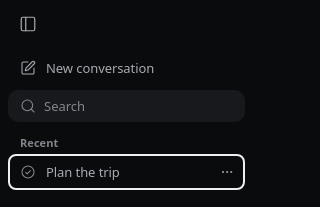
Test: renames a conversation with F2, showing the new name at once, and Escape leaves it
Press F2 in the button "Plan the trip", box x1=8 y1=154 x2=245 y2=190
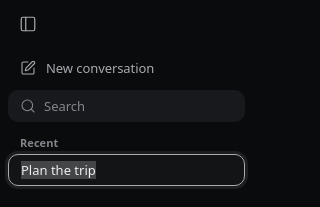
Press Escape in the field named "Conversation name", box x1=21 y1=155 x2=232 y2=185
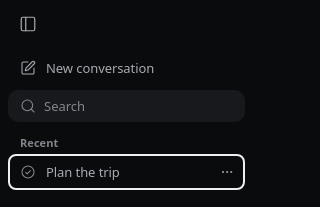
Press F2 in the button "Plan the trip", box x1=8 y1=154 x2=245 y2=190
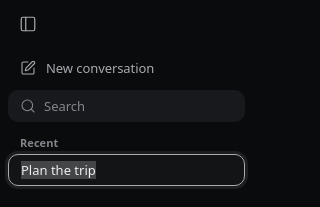
Replace the text in the field named "Conversation name" with "Lisbon in May": (126, 170) x1=21 y1=155 x2=232 y2=185
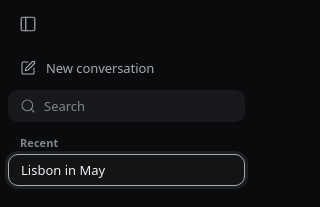
Press Enter in the field named "Conversation name", box x1=21 y1=155 x2=232 y2=185
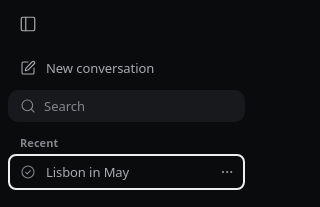
Expected: the button with aria-label "Lisbon in May, done" is shown, x1=8 y1=154 x2=245 y2=190
